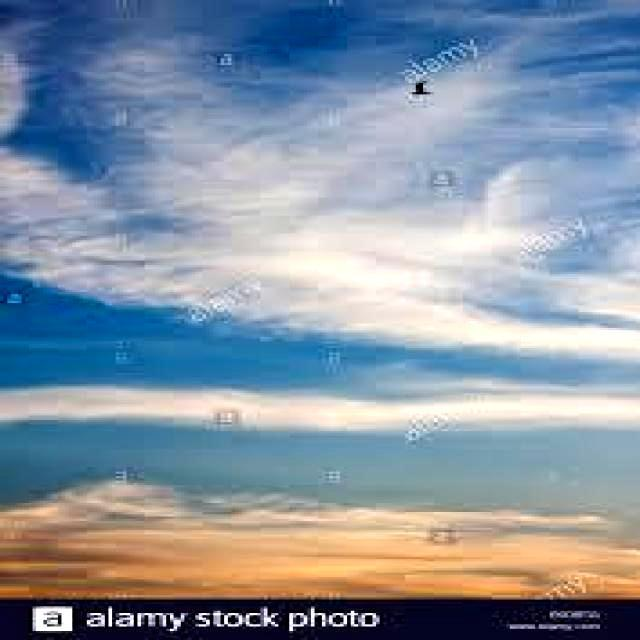bird: (406, 76, 438, 100)
